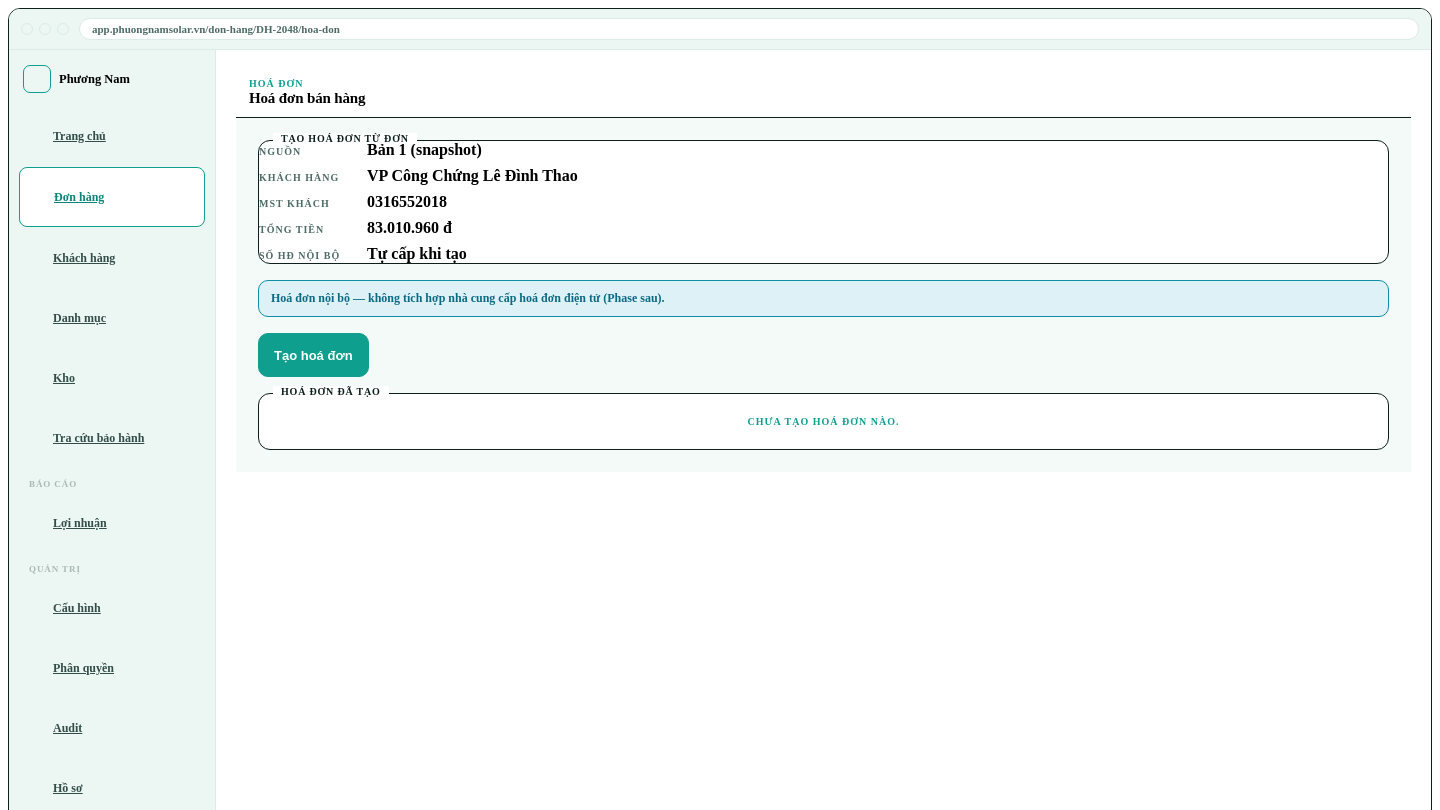
Test: InvoicesScreen — create › shows a 409 message verbatim and reloads the overview
Click the button "Tạo hoá đơn". click: [313, 355]
box: [258,333,369,377]
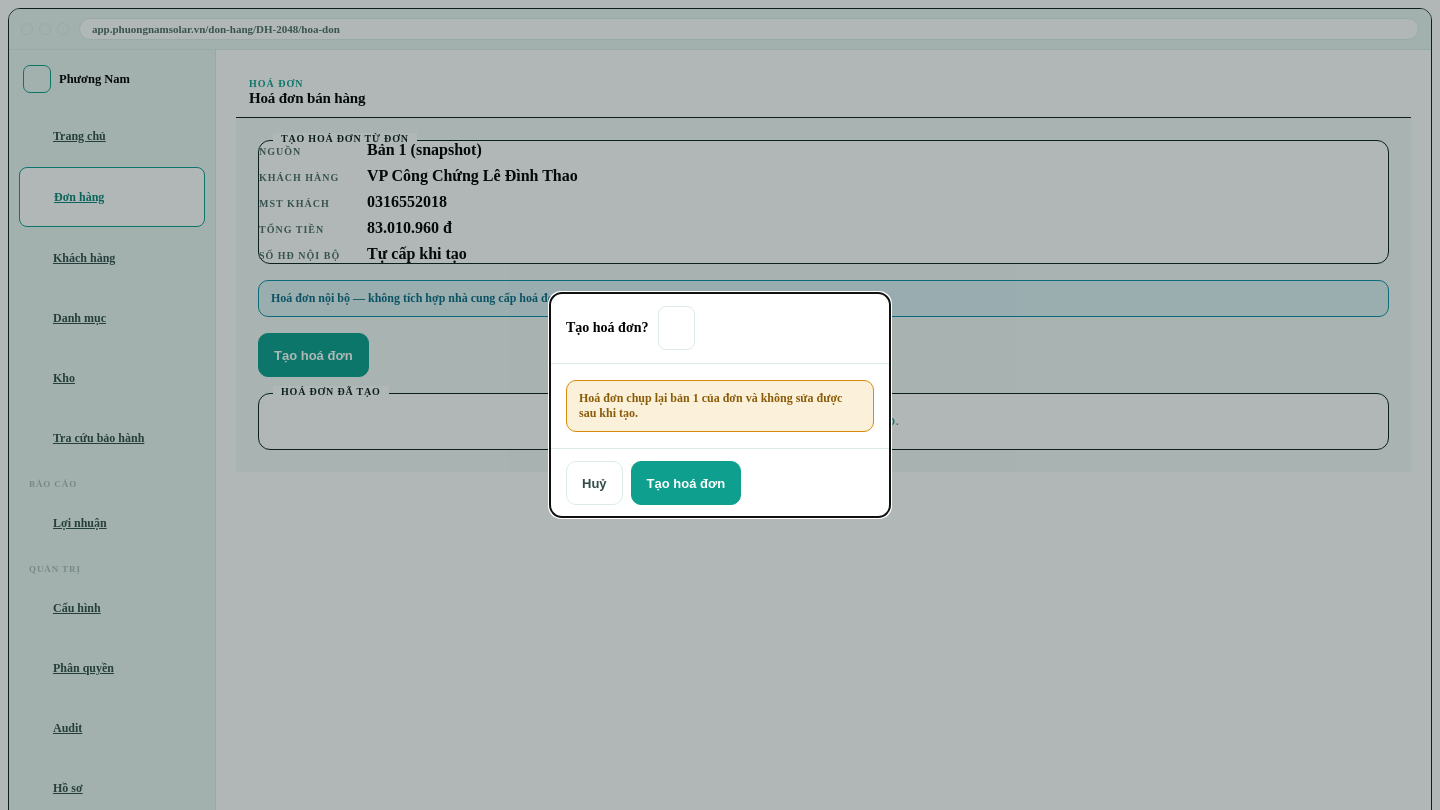
Click the button "Tạo hoá đơn". click: [686, 483]
box: [631,461,741,505]
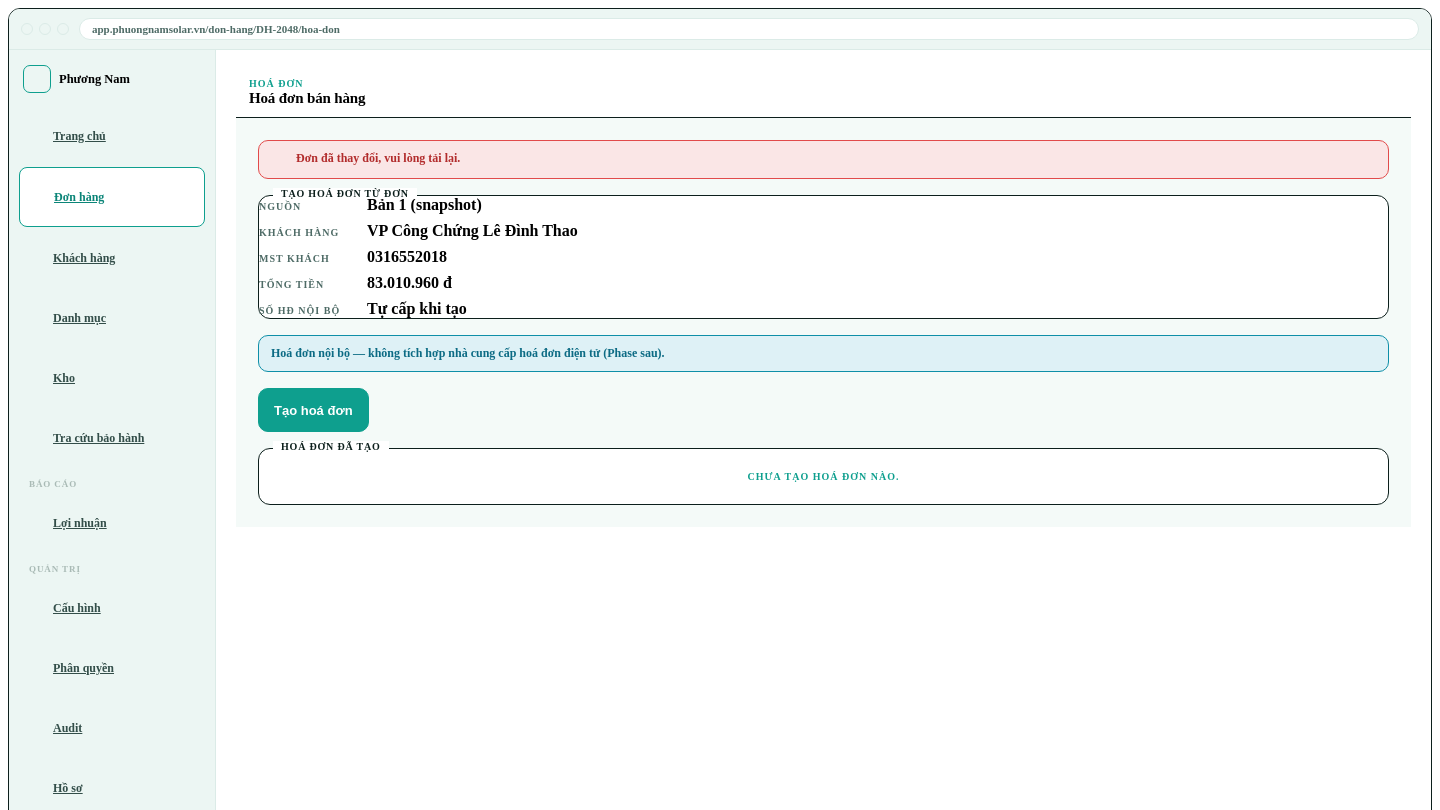
expect the text "Đơn đã thay đổi, vui lòng tải lại." is shown: met, box [258,140,1389,179]
